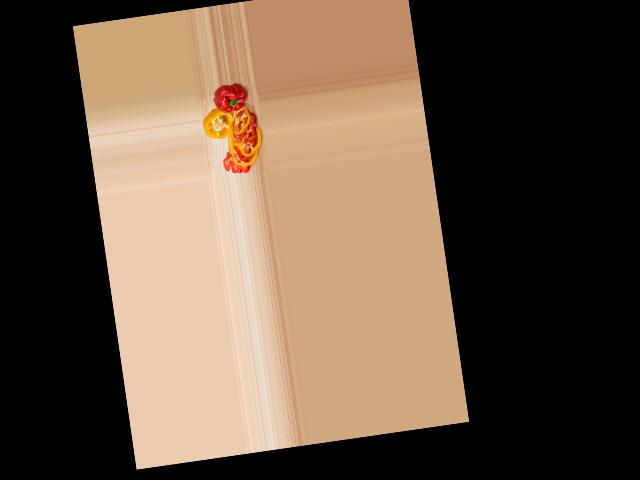bell_pepper: (200, 107, 235, 142)
